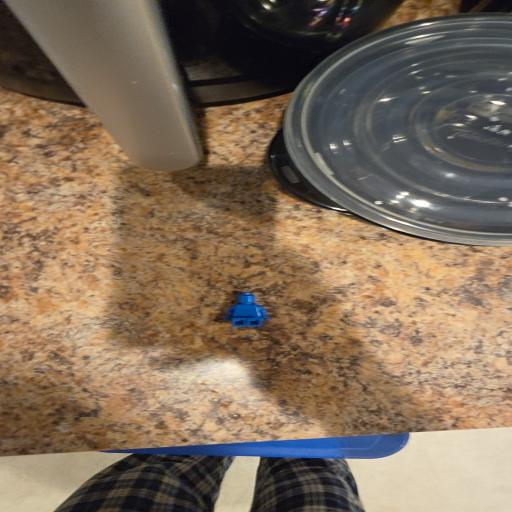Blue: (224, 293, 269, 327)
